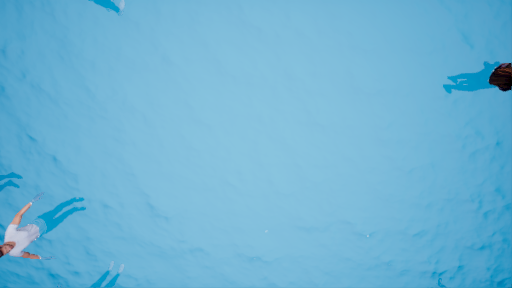person: (1, 189, 92, 265), (439, 51, 512, 103)
